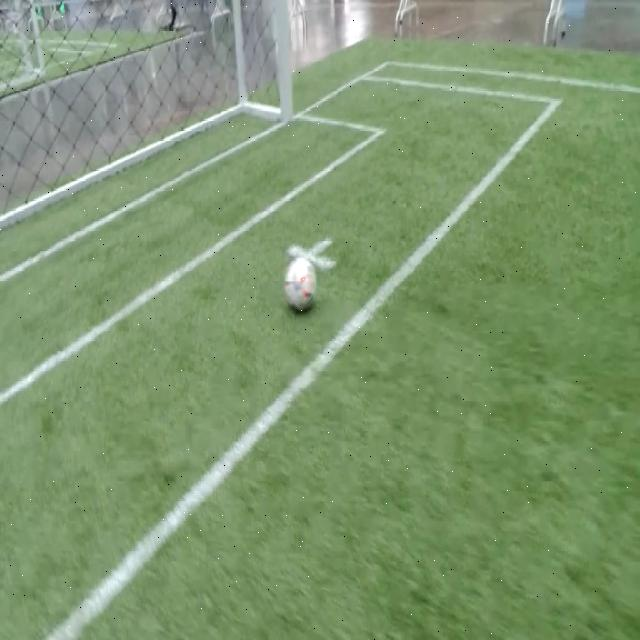ball: (284, 255, 316, 312)
goalpost: (276, 88, 298, 128)
